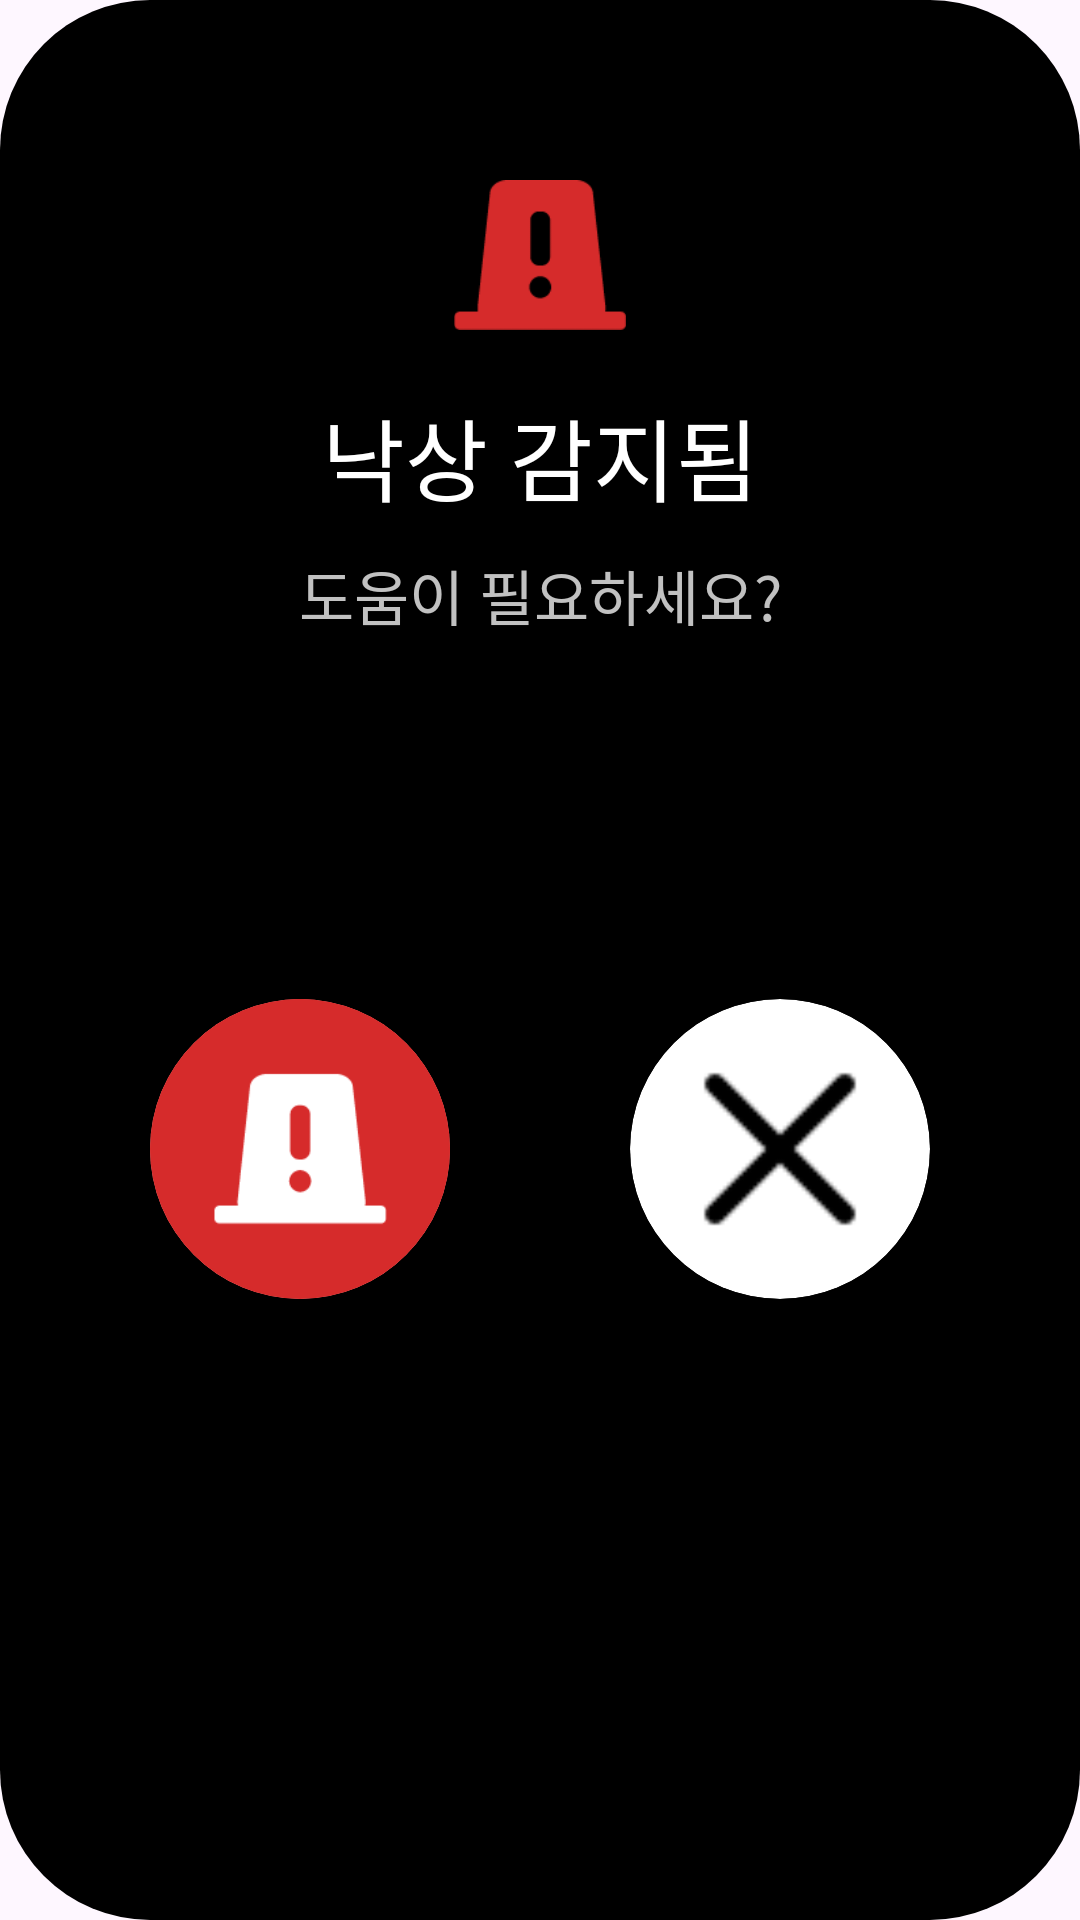

Where icons sit on this 1080px x 1920px app screen, as [left=x1, top=y1, right=x2, bottom=y2]:
close: [left=704, top=1073, right=856, bottom=1225]
siren: [left=454, top=180, right=626, bottom=330], [left=150, top=999, right=450, bottom=1299]
